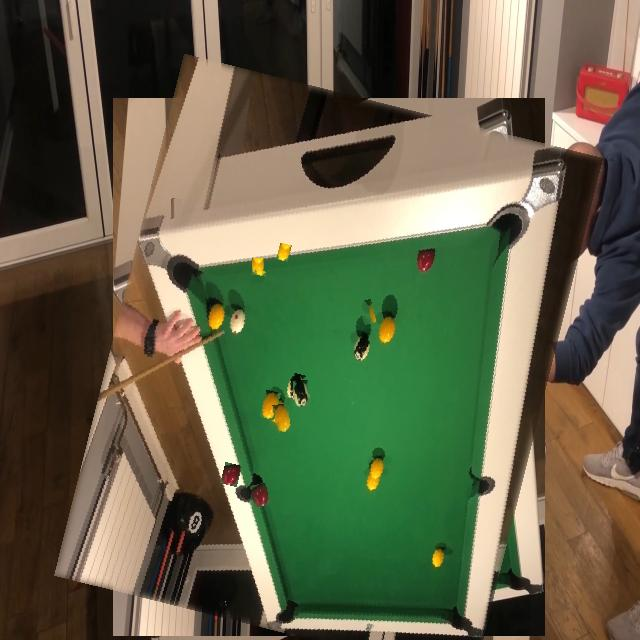Ball: (273, 404, 290, 432), (251, 483, 270, 507), (420, 376, 436, 403), (442, 376, 458, 403), (294, 381, 310, 407), (360, 300, 375, 324), (250, 270, 265, 292), (171, 198, 182, 219), (252, 258, 264, 275)
Billiard table: (83, 75, 574, 640)
